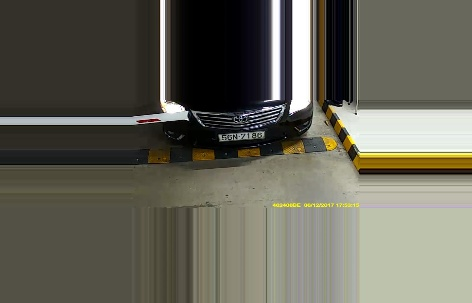plate: (217, 130, 266, 141)
